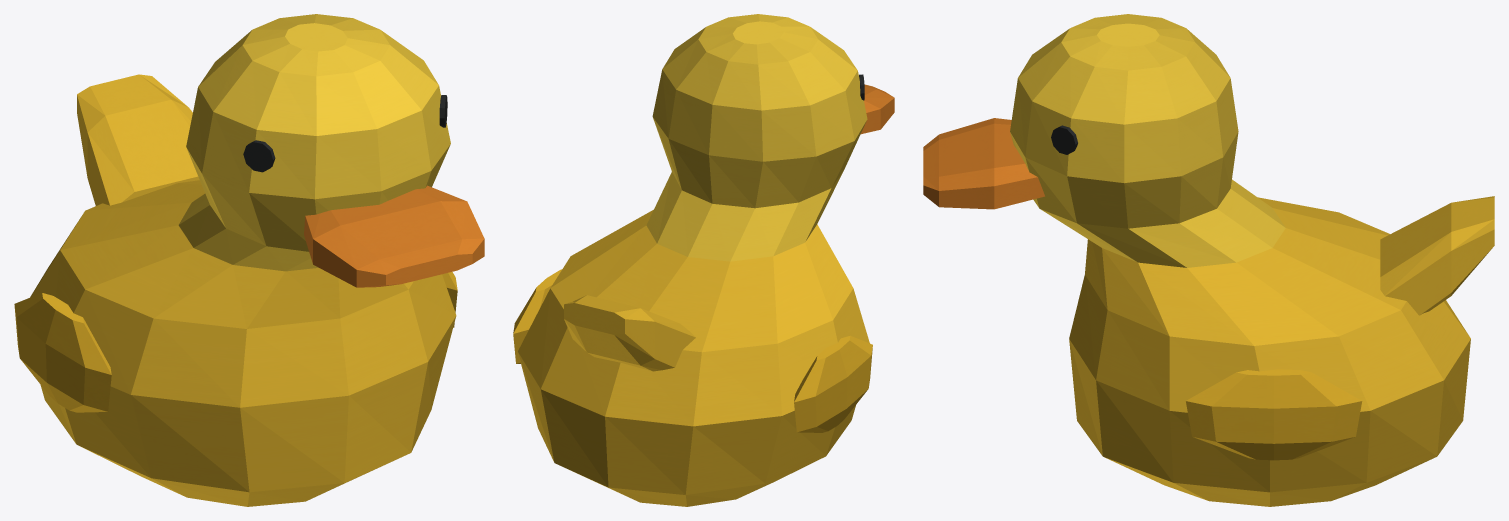
Rendered from rubber_duck.glb.
3 renders of one model, left to right at view 1: azimuth 30°, elevation 25°; view 2: azimuth 150°, elevation 25°; view 3: azimuth 270°, elevation 25°, orthographic. The views are drawn at different scales.
Parts seen in each view (by area): view 1: core_rubber_duck; view 2: core_rubber_duck; view 3: core_rubber_duck.
Boxes of the visible parts, x1,y1,x2,y2 form: core_rubber_duck: [14, 14, 484, 506]; core_rubber_duck: [513, 14, 894, 506]; core_rubber_duck: [923, 14, 1494, 506].
Bounding box in the file's own units: 0.1012 × 0.12 × 0.145.
Materials: 1 (1 with a texture image).
